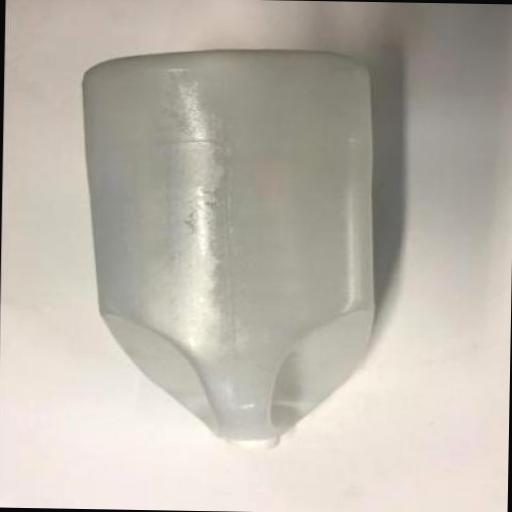plastic: (74, 45, 380, 454), (228, 436, 280, 454)
